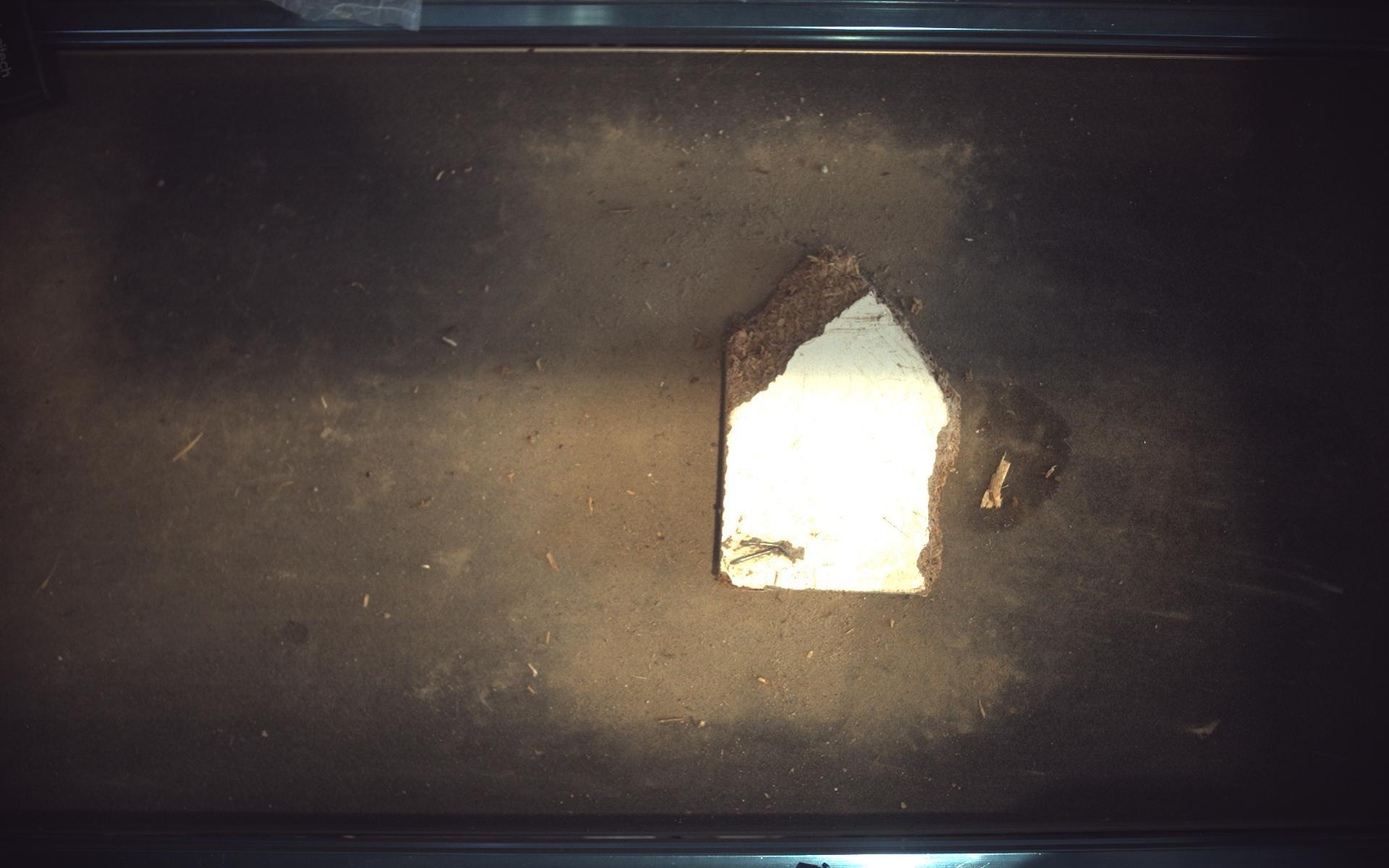wood: (720, 247, 961, 595)
